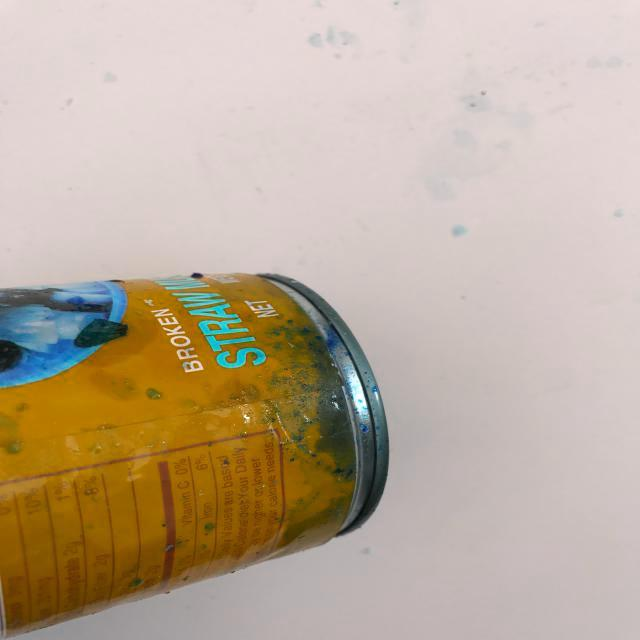metal: (1, 262, 477, 639)
